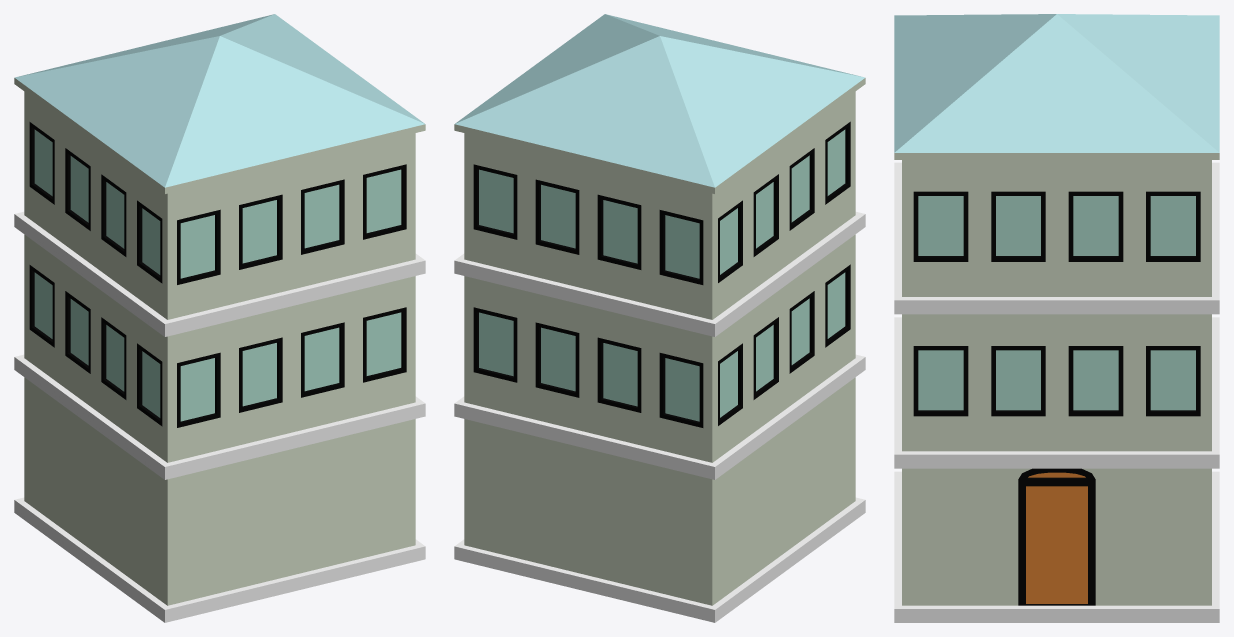
The model's file is building1.fbx.
The picture shows the model from 3 angles, left to right: view 1: azimuth 30°, elevation 25°; view 2: azimuth 150°, elevation 25°; view 3: azimuth 270°, elevation 25°; orthographic projection. The views are drawn at different scales.
Visible parts, largest first — view 1: building_004.001; view 2: building_004.001; view 3: building_004.001.
Part boxes in pixels (x1,y1,x2,y2): building_004.001: (14, 14, 425, 622); building_004.001: (454, 14, 865, 622); building_004.001: (894, 14, 1219, 622).
Size of the model in its own units: 4.2 by 7.7 by 4.2.
